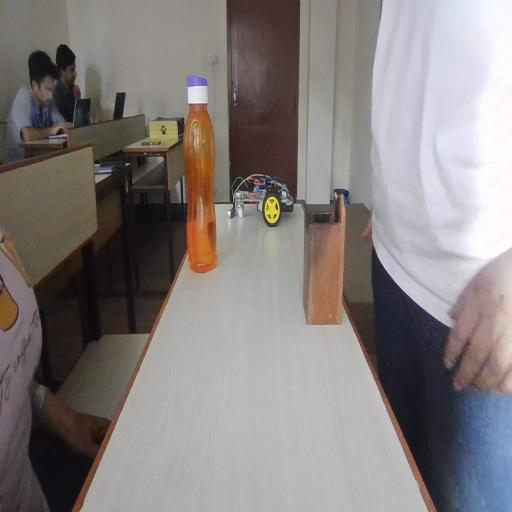Bottle: (181, 80, 230, 255)
car: (236, 150, 296, 230)
